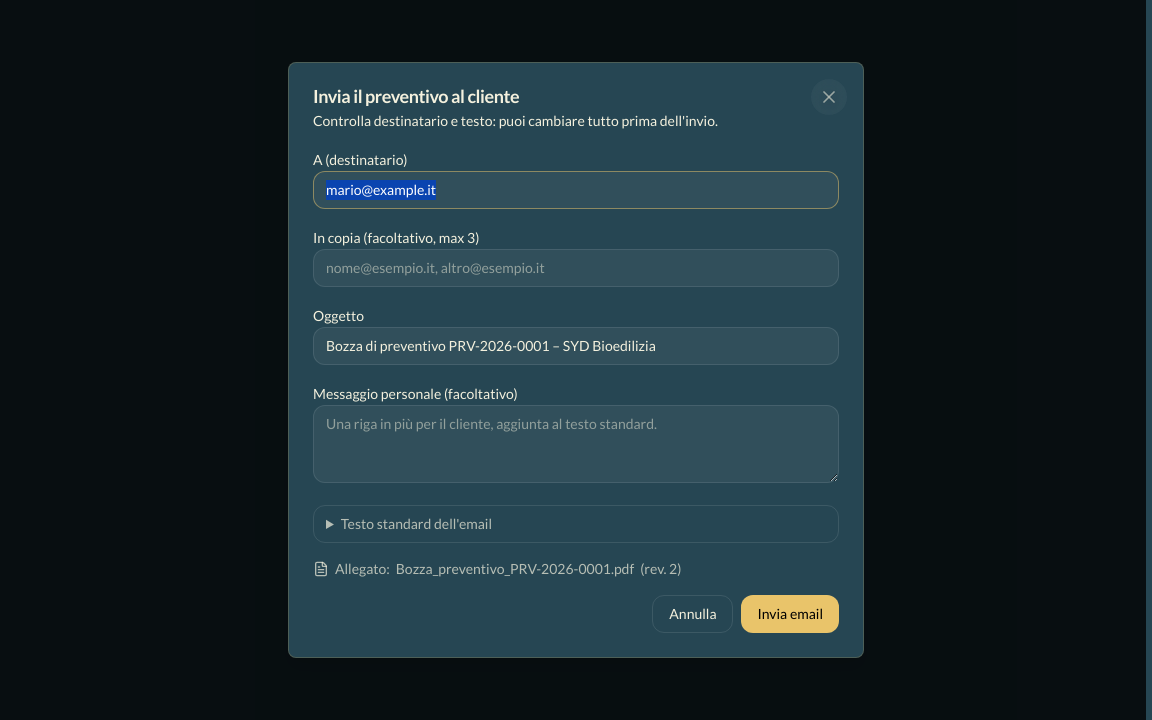
Test case: SendDialog › blocks an invalid recipient and more than 3 cc
This screenshot has width=1152, height=720.
Replace the text in the field with test id "send-to" with "non-una-email" at coordinates (576, 190), box [313,171,839,209]
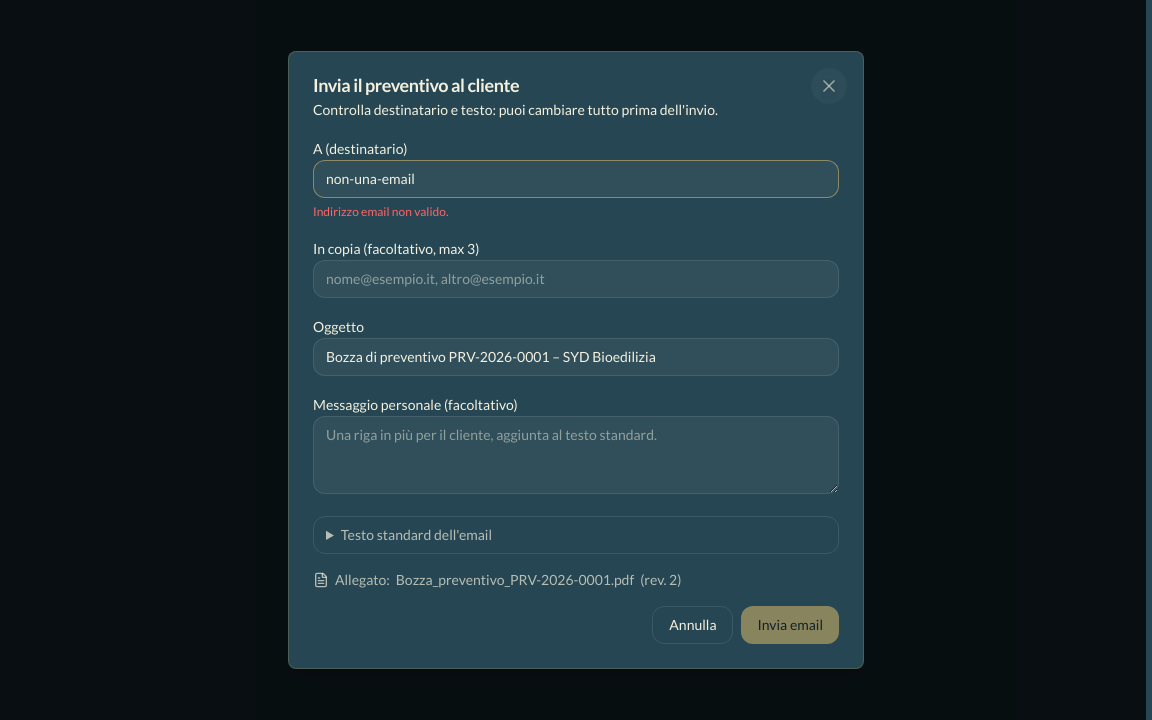
Expected: the button with test id "send-confirm" is disabled, [742,606,839,644]
Expected: the text "Indirizzo email non valido." is shown, [313,204,448,219]
Replace the text in the field with test id "send-to" with "ok@example.it" at coordinates (576, 179), box [313,160,839,198]
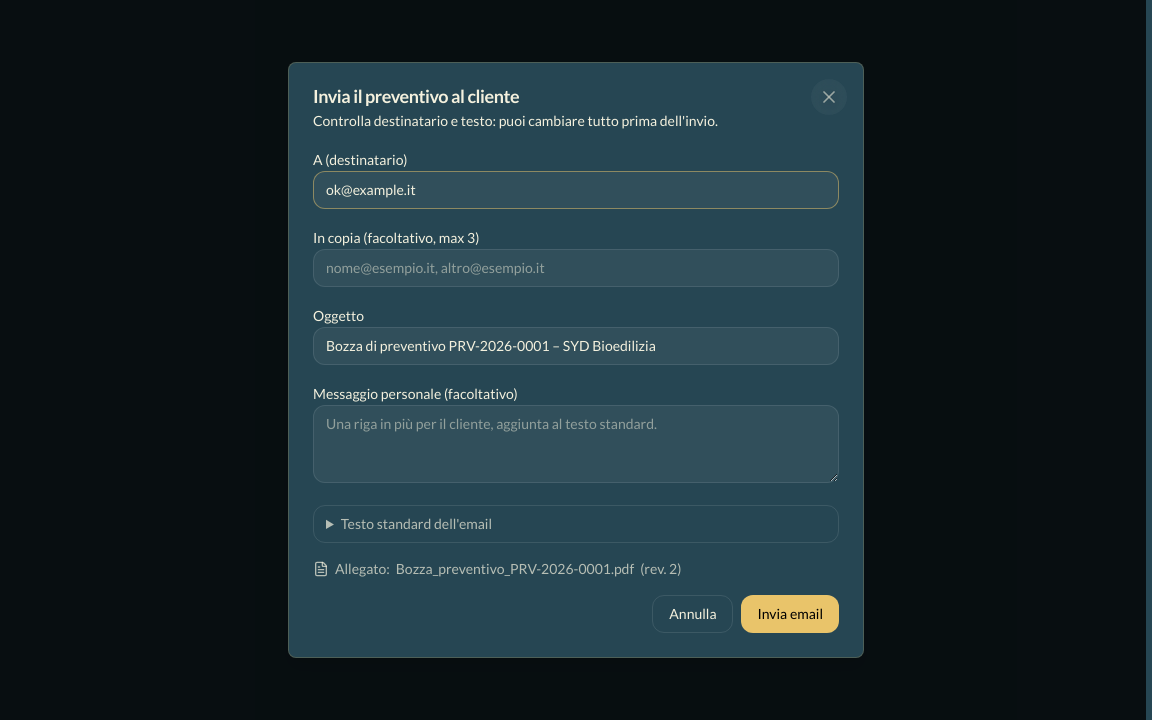
Type "a@x.it b@x.it c@x.it d@x.it" into the field with test id "send-cc" at coordinates (576, 268), box [313,249,839,287]
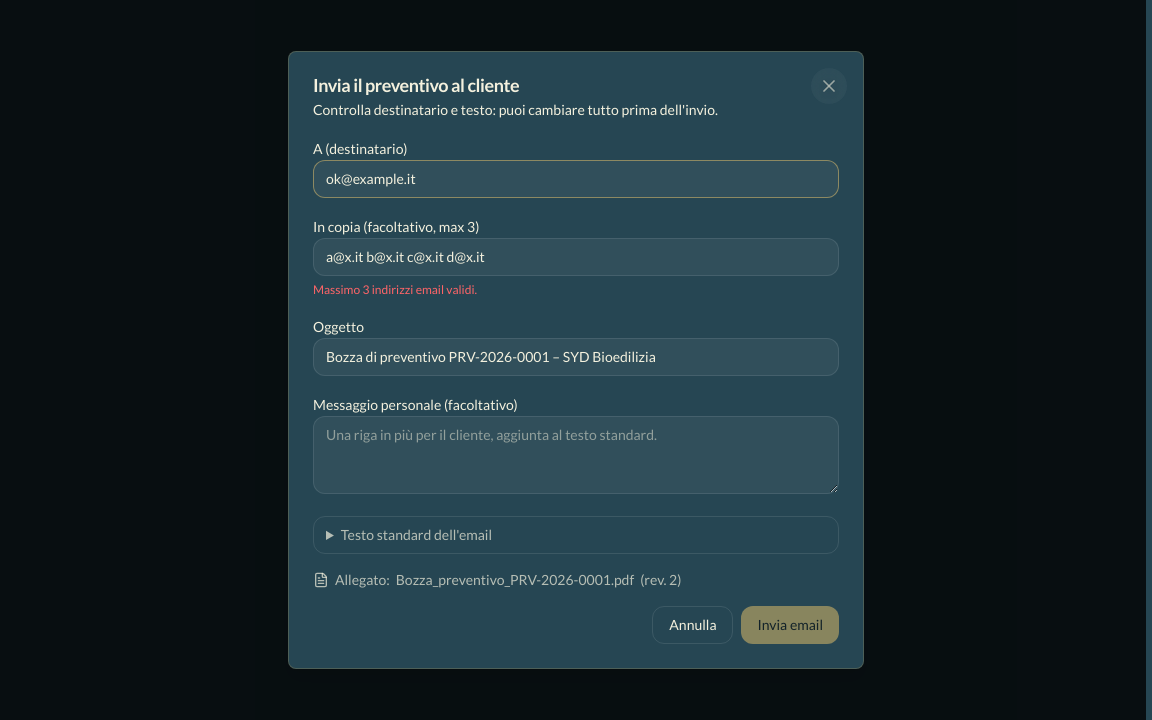
Expected: the button with test id "send-confirm" is disabled, [742,606,839,644]
Expected: the text "Massimo 3 indirizzi email validi." is shown, [313,282,477,297]
